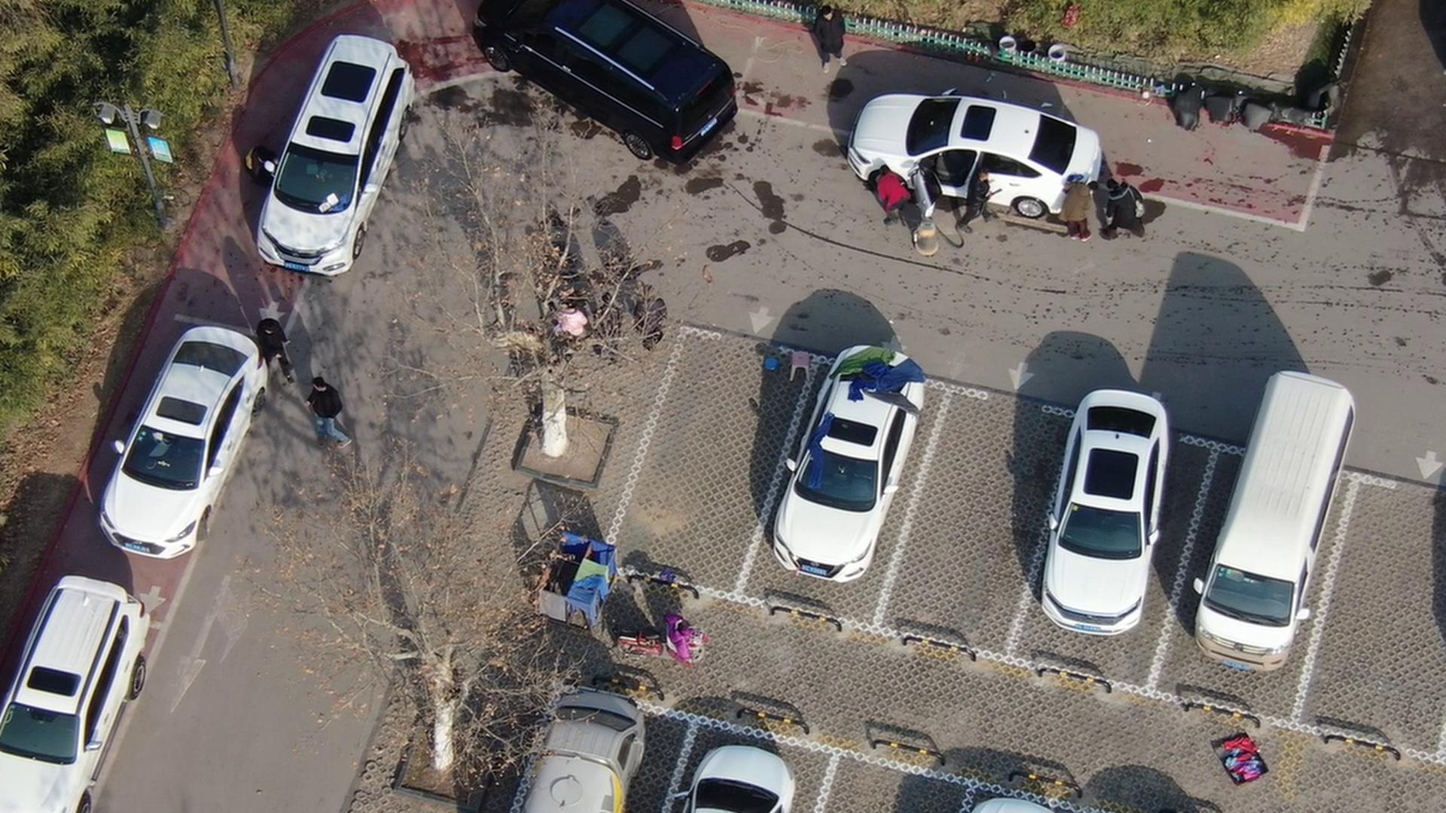human: (310, 375, 357, 456), (636, 282, 679, 354), (1109, 175, 1155, 239), (965, 164, 1006, 235), (1070, 172, 1108, 245), (877, 166, 921, 226), (823, 1, 863, 66), (601, 290, 631, 364), (265, 315, 296, 383), (251, 146, 287, 190)
